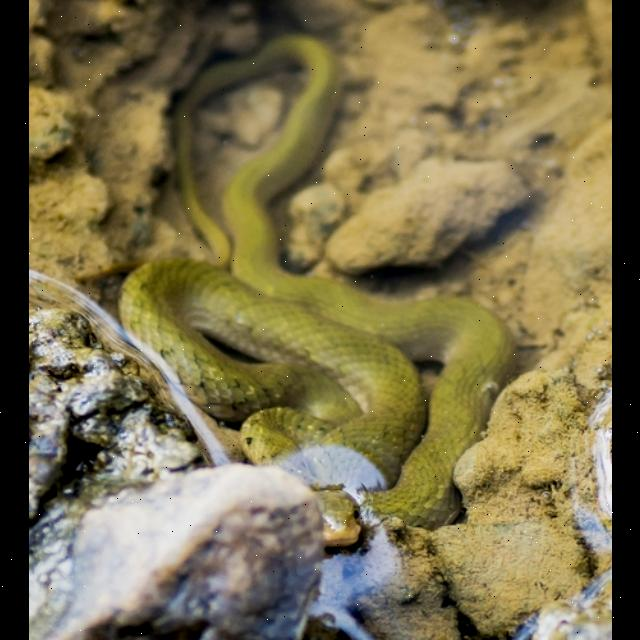snake: (119, 28, 511, 536)
